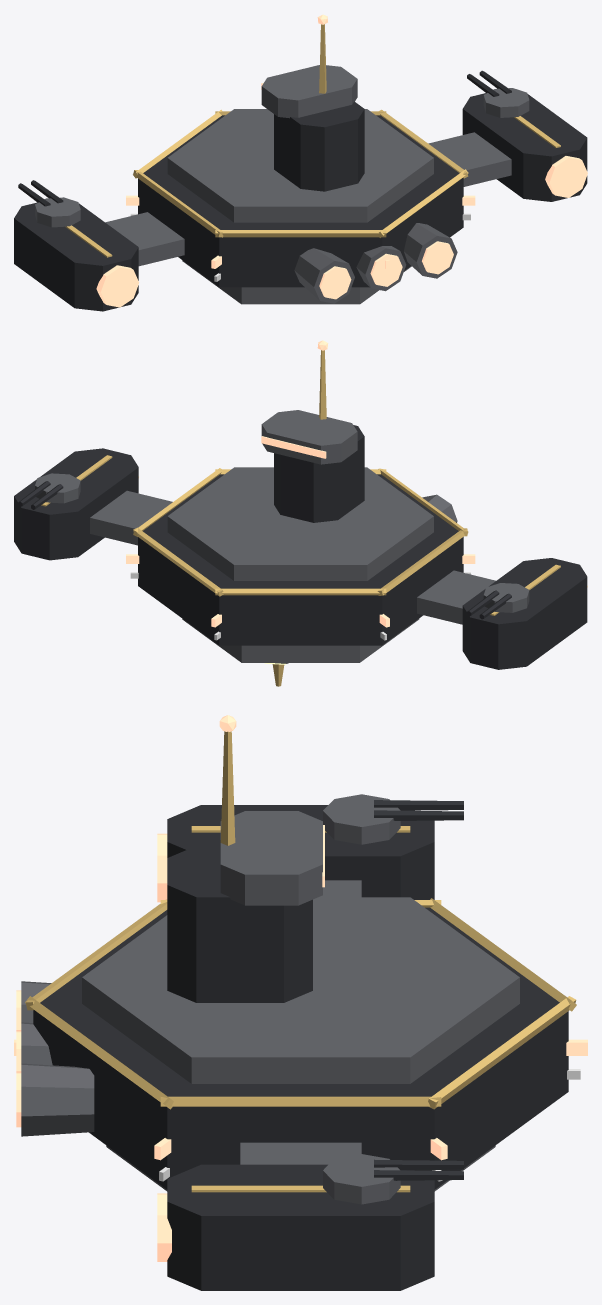
Rendered from Aegis_Dominion.fbx.
3 views of the same model, one above another, from view 1: azimuth 30°, elevation 25°; view 2: azimuth 150°, elevation 25°; view 3: azimuth 270°, elevation 25° (orthographic). The views are drawn at different scales.
Parts seen in each view (by area): view 1: DOM_Deck, DOM_Hull, DOM_PodHullR, DOM_Tower, DOM_PodHullL, DOM_HullGold, DOM_Bridge, DOM_WingL, DOM_WingR, DOM_Keel, DOM_Engine-1, DOM_Engine1 (+9 smaller); view 2: DOM_Hull, DOM_Deck, DOM_PodHullR, DOM_PodHullL, DOM_Tower, DOM_HullGold, DOM_Bridge, DOM_Keel, DOM_WingL, DOM_WingR, DOM_TurBaseR, DOM_TurBaseL (+2 smaller); view 3: DOM_Deck, DOM_Hull, DOM_PodHullL, DOM_Tower, DOM_HullGold, DOM_PodHullR, DOM_Bridge, DOM_Engine1, DOM_TurBaseL, DOM_TurBaseR, DOM_WingL, DOM_Mast (+8 smaller).
Boxes of the visible parts, x1,y1,x2,y2 form: DOM_Deck: [167, 109, 433, 222]; DOM_Hull: [138, 115, 463, 287]; DOM_PodHullR: [14, 202, 138, 311]; DOM_Tower: [274, 101, 364, 191]; DOM_PodHullL: [462, 93, 587, 201]; DOM_HullGold: [133, 109, 468, 237]; DOM_Bridge: [261, 65, 357, 118]; DOM_WingL: [428, 132, 511, 186]; DOM_WingR: [105, 212, 184, 266]; DOM_Keel: [182, 260, 411, 304]; DOM_Engine-1: [294, 248, 354, 303]; DOM_Engine1: [404, 223, 457, 278]; DOM_Hull: [138, 474, 463, 645]; DOM_Deck: [167, 467, 433, 580]; DOM_PodHullR: [462, 558, 587, 669]; DOM_PodHullL: [14, 448, 138, 560]; DOM_Tower: [274, 425, 364, 522]; DOM_HullGold: [133, 468, 468, 596]; DOM_Bridge: [261, 410, 357, 464]; DOM_Keel: [182, 619, 419, 662]; DOM_WingL: [90, 490, 172, 545]; DOM_WingR: [417, 570, 495, 624]; DOM_TurBaseR: [483, 583, 529, 612]; DOM_TurBaseL: [35, 473, 80, 503]; DOM_Deck: [82, 897, 519, 1083]; DOM_Hull: [33, 907, 568, 1189]; DOM_PodHullL: [167, 1164, 434, 1290]; DOM_Tower: [167, 846, 312, 1002]; DOM_HullGold: [25, 898, 576, 1109]; DOM_PodHullR: [167, 805, 434, 899]; DOM_Bridge: [220, 811, 322, 905]; DOM_Engine1: [21, 1063, 94, 1136]; DOM_TurBaseL: [323, 1154, 400, 1204]; DOM_TurBaseR: [323, 794, 400, 844]; DOM_WingL: [240, 1142, 361, 1164]; DOM_Mast: [220, 731, 235, 845].
Bounding box in the file's own units: 4 × 2.33 × 2.36.
